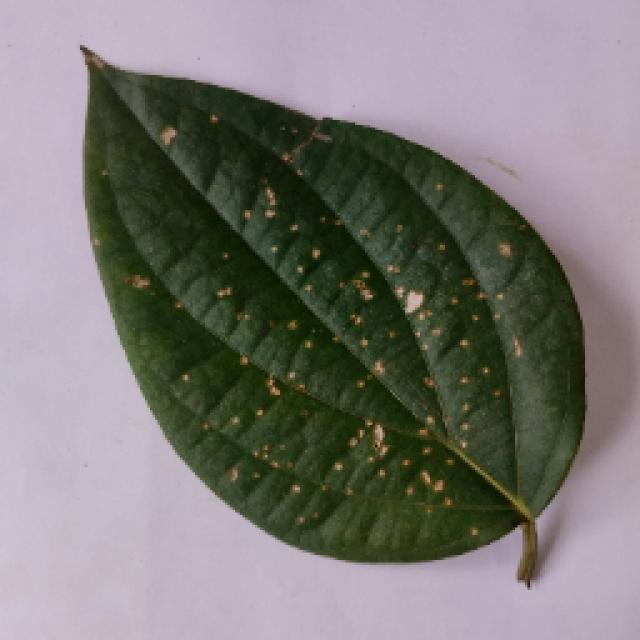pollu-disease: (65, 58, 605, 598)
